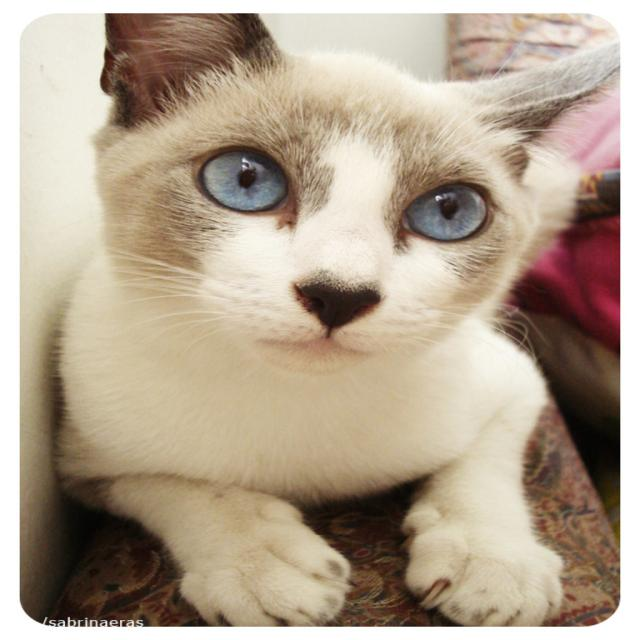Cat: (18, 12, 620, 626)
